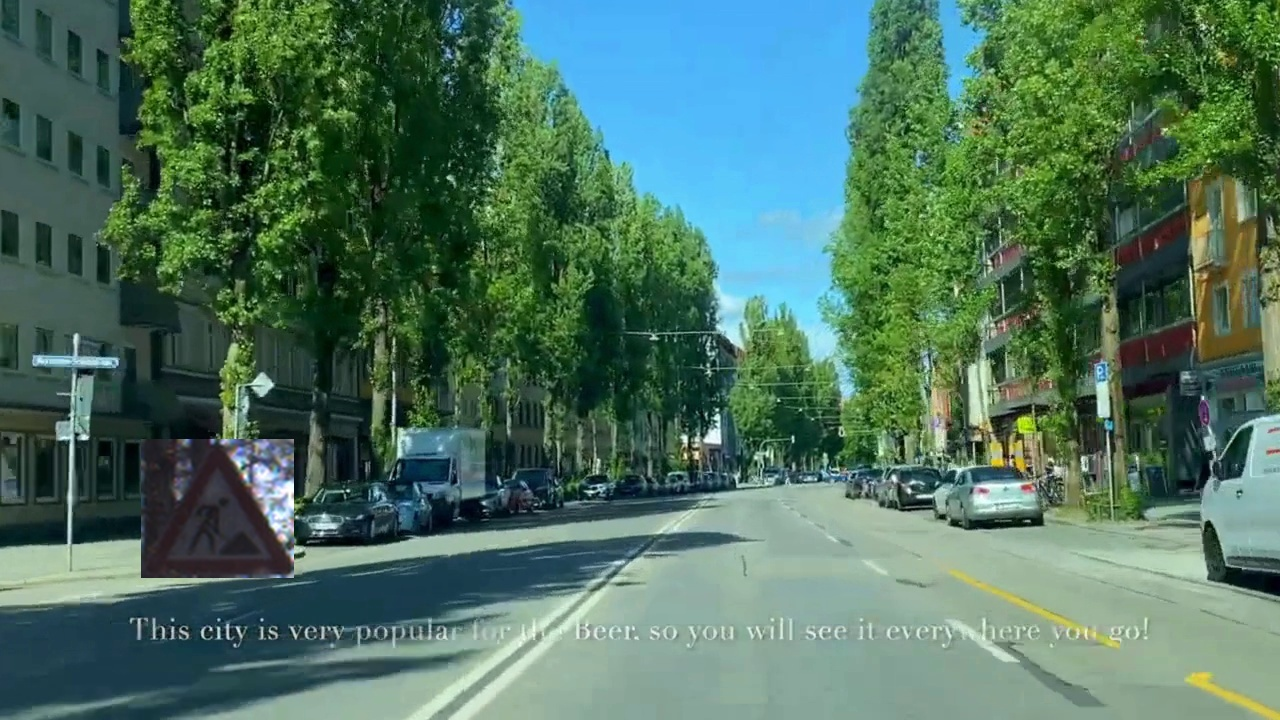Road work: (141, 439, 294, 578)
